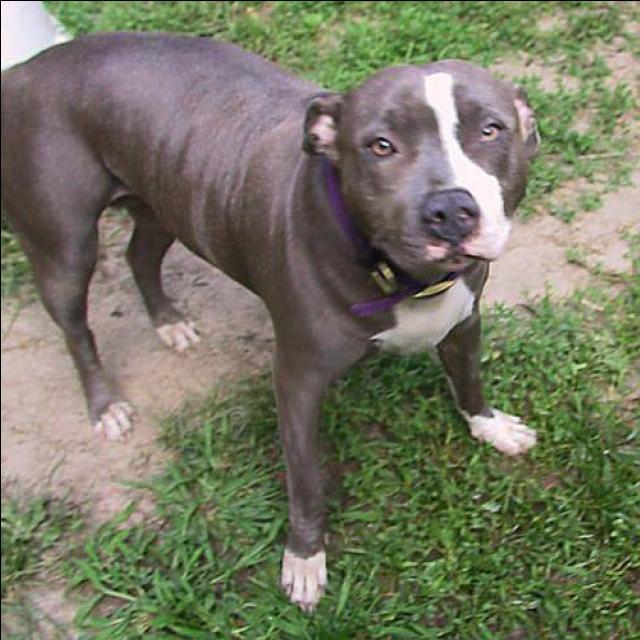dog: (0, 42, 560, 576)
